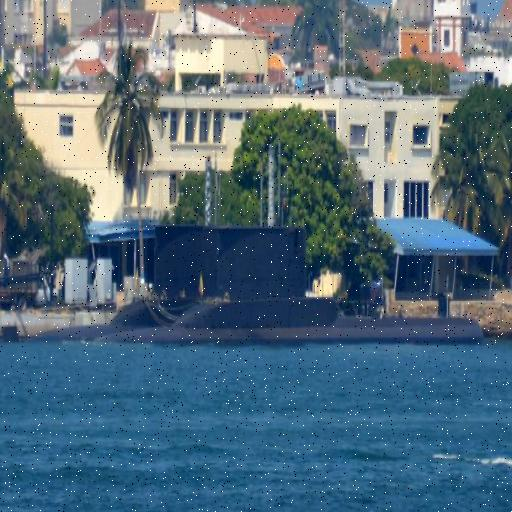submarine: (31, 233, 496, 340)
